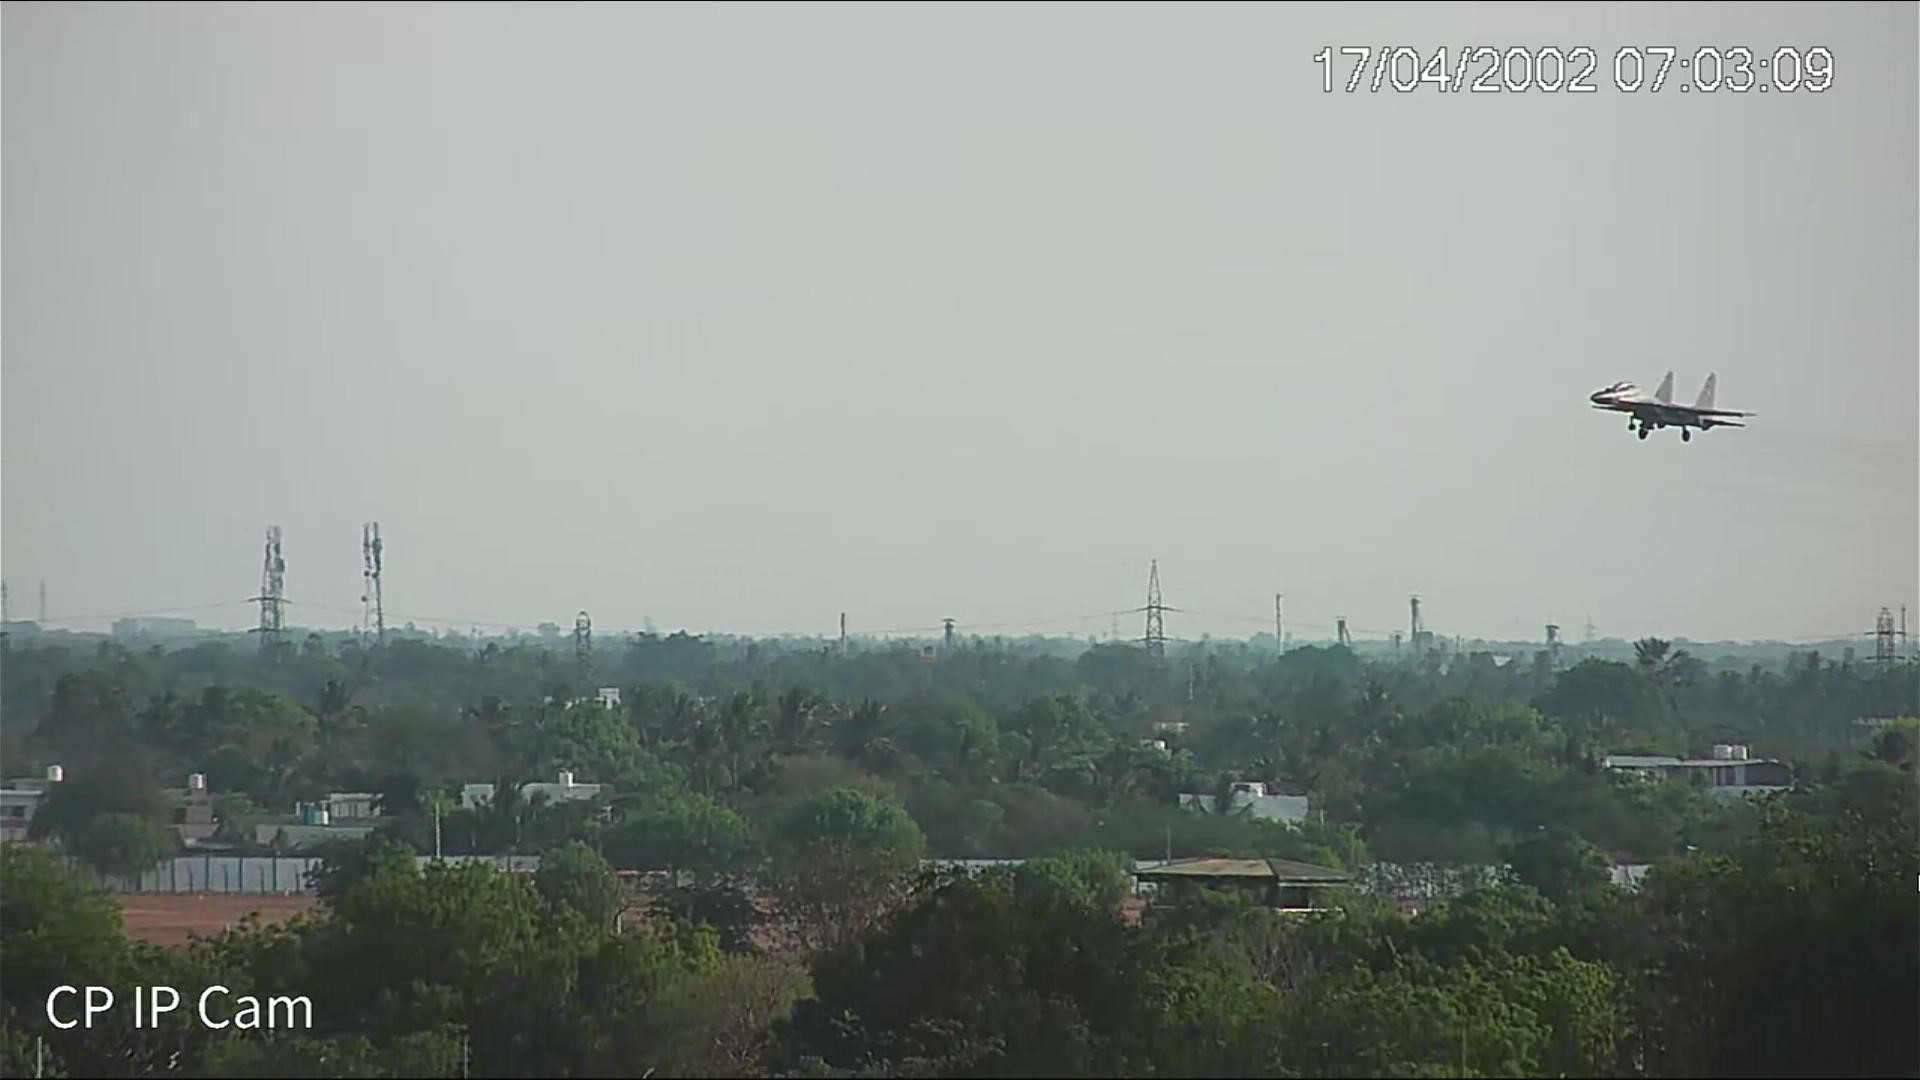SU_30: (1589, 368, 1756, 450)
